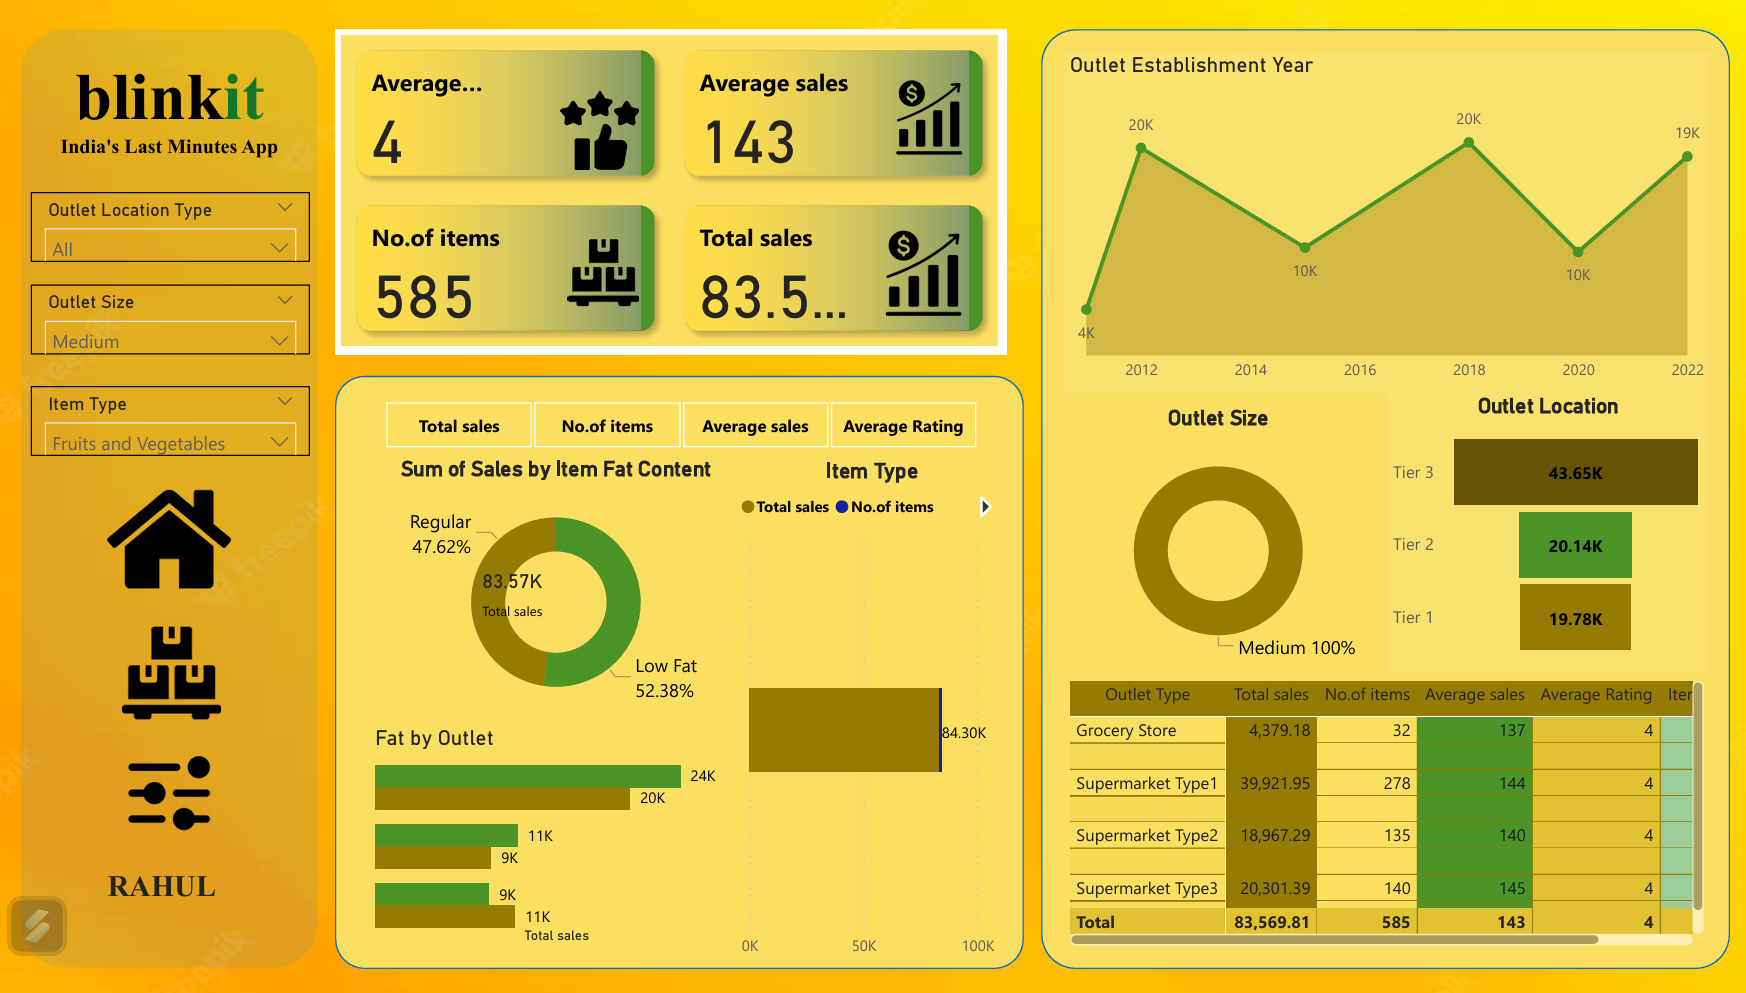

What the dashboard file says about the page in this screenshot:
{"tool":"powerbi","page":{"name":"Page 1","canvas":[1400,800],"ordinal":0},"visuals":[{"type":"shape","box":[18.6,24.8,237.7,750.3],"z":0},{"type":"textbox","box":[18.6,43.4,237.7,93],"z":1000},{"type":"cardVisual","fields":{"Data":["BlinkIT Grocery Data.Average Rating","BlinkIT Grocery Data.Average sales","BlinkIT Grocery Data.No.of items","BlinkIT Grocery Data.Total sales"]},"box":[270.4,24.7,535.5,259.8],"z":2000},{"type":"shape","box":[270.4,302.2,549.6,473.6],"z":3000},{"type":"slicer","fields":{"Values":["Matrics.Matrics"]},"box":[284.5,316.4,521.4,49.5],"z":4000},{"type":"donutChart","fields":{"Category":["BlinkIT Grocery Data.Item Fat Content"],"Y":["BlinkIT Grocery Data.Sales"]},"box":[312.1,365.8,268.7,215],"z":5000},{"type":"card","fields":{"Values":["BlinkIT Grocery Data.Total sales"]},"box":[376.4,443.6,70.7,60.1],"z":6000},{"type":"clusteredBarChart","title":"Fat by Outlet ","fields":{"Y":["BlinkIT Grocery Data.Total sales"],"Category":["BlinkIT Grocery Data.Outlet Location Type"],"Series":["BlinkIT Grocery Data.Item Fat Content"]},"box":[296.9,581.5,300.4,178.5],"z":7000},{"type":"barChart","title":" Item Type","fields":{"Y":["BlinkIT Grocery Data.Total sales","BlinkIT Grocery Data.No.of items","BlinkIT Grocery Data.Average sales","BlinkIT Grocery Data.Average Rating"],"Category":["BlinkIT Grocery Data.Item Type"]},"box":[588.5,367.6,220.9,408.3],"z":8000},{"type":"shape","box":[834.2,24.7,549.6,751.1],"z":9000},{"type":"lineChart","title":" Outlet Establishment Year","fields":{"Y":["BlinkIT Grocery Data.Total sales"],"Category":["BlinkIT Grocery Data.Outlet Establishment Year"]},"box":[851.6,43.4,516.7,272.8],"z":10000},{"type":"donutChart","title":" Outlet Size","fields":{"Category":["BlinkIT Grocery Data.Outlet Size"],"Y":["BlinkIT Grocery Data.Sales"]},"box":[841.2,324.5,268.7,215],"z":11000},{"type":"funnel","title":" Outlet Location ","fields":{"Y":["BlinkIT Grocery Data.Sales"],"Category":["BlinkIT Grocery Data.Outlet Location Type"]},"box":[1109.9,316.2,258.4,223.2],"z":12000},{"type":"pivotTable","fields":{"Values":["BlinkIT Grocery Data.Total sales","BlinkIT Grocery Data.No.of items","BlinkIT Grocery Data.Average sales","BlinkIT Grocery Data.Average Rating","BlinkIT Grocery Data.Item Visibility"],"Rows":["BlinkIT Grocery Data.Outlet Type"]},"box":[851.9,540.8,516.1,220.9],"z":13000},{"type":"slicer","fields":{"Values":["BlinkIT Grocery Data.Outlet Location Type"]},"box":[26.9,155,223.2,55.8],"z":14000},{"type":"slicer","fields":{"Values":["BlinkIT Grocery Data.Outlet Size"]},"box":[26.9,229.4,223.2,55.8],"z":15000},{"type":"slicer","fields":{"Values":["BlinkIT Grocery Data.Item Type"]},"box":[26.9,310,223.2,55.8],"z":16000},{"type":"image","box":[82.7,374.1,109.5,115.7],"z":17000},{"type":"image","box":[97.1,593.2,80.6,84.7],"z":18000},{"type":"image","box":[95.1,487.8,88.9,103.3],"z":19000},{"type":"textbox","box":[26.9,692.4,208.8,47.5],"z":20000}]}

Visuals, with their boxes in screenshot pixels (x1, y1, x2, y2), scaled from the page's 1400x800 canvas onto the 1746x993 screenshot:
shape: <bbox>23, 31, 320, 962</bbox>
textbox: <bbox>23, 54, 320, 169</bbox>
cardVisual - BlinkIT Grocery Data.Average Rating x BlinkIT Grocery Data.Average sales: <bbox>337, 31, 1005, 353</bbox>
shape: <bbox>337, 375, 1023, 963</bbox>
slicer - Matrics.Matrics: <bbox>355, 393, 1005, 454</bbox>
donutChart - BlinkIT Grocery Data.Item Fat Content x BlinkIT Grocery Data.Sales: <bbox>389, 454, 724, 721</bbox>
card - BlinkIT Grocery Data.Total sales: <bbox>469, 551, 558, 625</bbox>
"Fat by Outlet " clusteredBarChart: <bbox>370, 722, 745, 943</bbox>
" Item Type" barChart: <bbox>734, 456, 1009, 963</bbox>
shape: <bbox>1040, 31, 1726, 963</bbox>
" Outlet Establishment Year" lineChart: <bbox>1062, 54, 1706, 392</bbox>
" Outlet Size" donutChart: <bbox>1049, 403, 1384, 670</bbox>
" Outlet Location " funnel: <bbox>1384, 392, 1706, 670</bbox>
pivotTable - BlinkIT Grocery Data.Total sales x BlinkIT Grocery Data.No.of items: <bbox>1062, 671, 1706, 945</bbox>
slicer - BlinkIT Grocery Data.Outlet Location Type: <bbox>34, 192, 312, 262</bbox>
slicer - BlinkIT Grocery Data.Outlet Size: <bbox>34, 285, 312, 354</bbox>
slicer - BlinkIT Grocery Data.Item Type: <bbox>34, 385, 312, 454</bbox>
image: <bbox>103, 464, 240, 608</bbox>
image: <bbox>121, 736, 222, 841</bbox>
image: <bbox>119, 605, 229, 734</bbox>
textbox: <bbox>34, 859, 294, 918</bbox>
